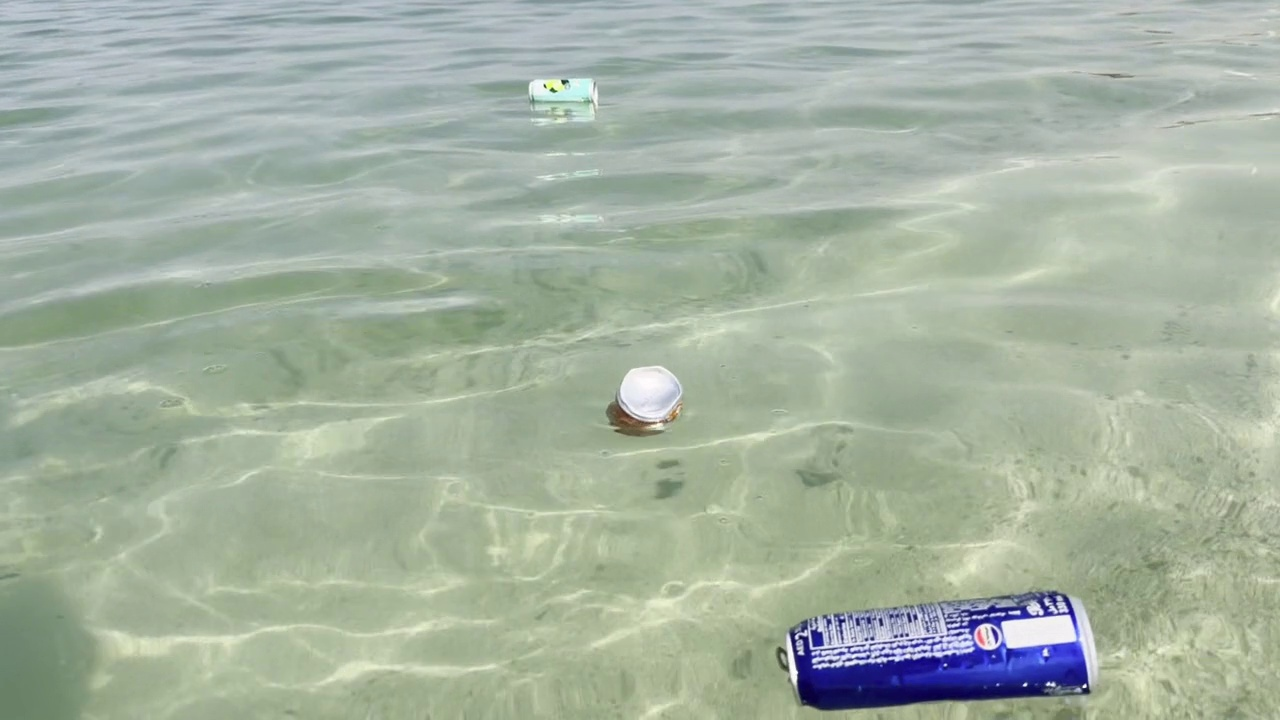debris: (773, 584, 1108, 714), (599, 363, 687, 436), (523, 74, 604, 111)
